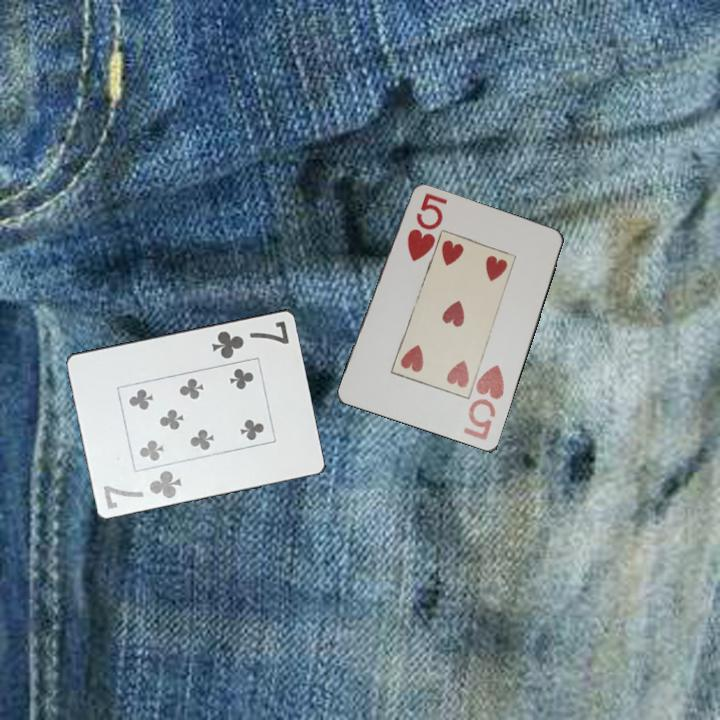5h: (460, 361, 507, 444), (404, 190, 446, 265)
7c: (100, 466, 185, 512), (208, 317, 292, 362)
